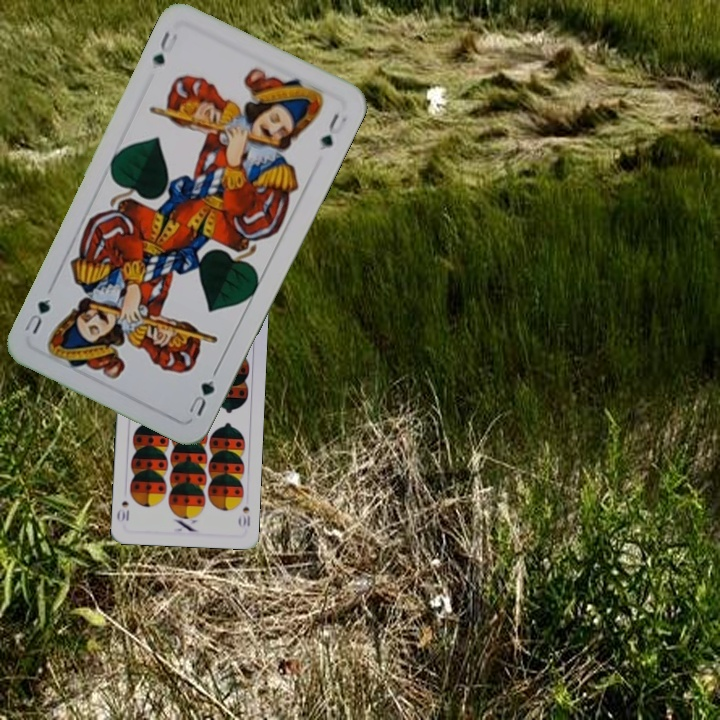GU: (184, 366, 220, 419), (148, 27, 173, 68)
S10: (235, 502, 253, 529)
